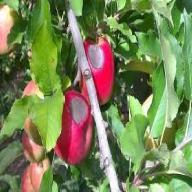apple: (48, 91, 94, 164), (78, 40, 116, 106)
